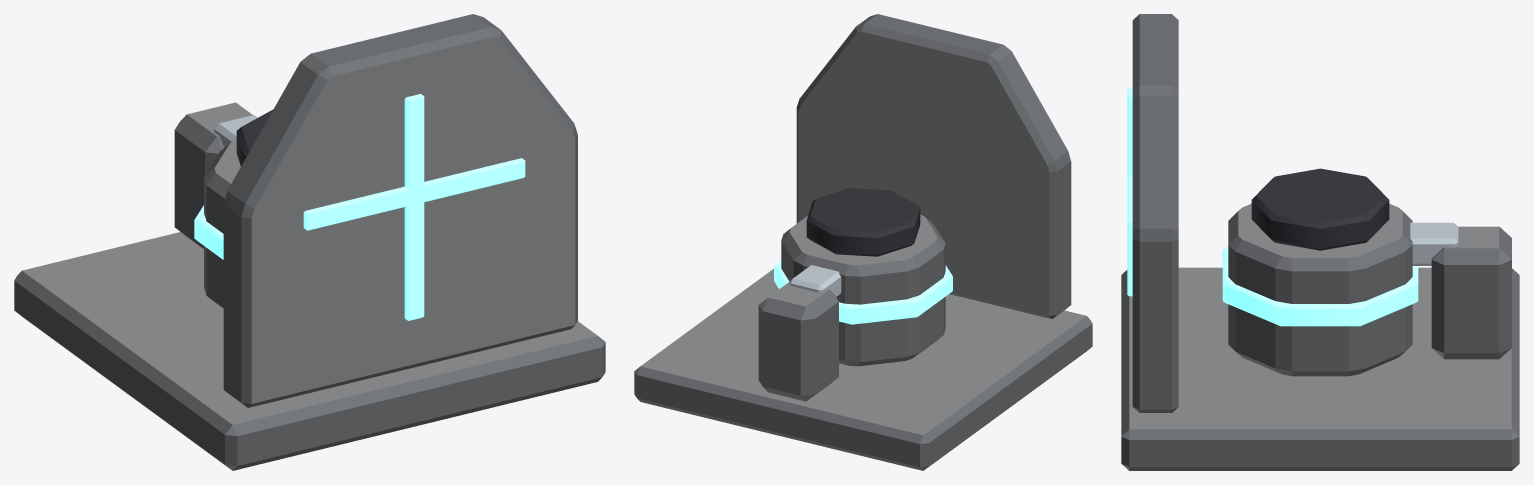
Rendered from R4X_DefensiveTurretDeployer_LOD1.glb.
3 renders of one model, left to right at view 1: azimuth 30°, elevation 25°; view 2: azimuth 150°, elevation 25°; view 3: azimuth 270°, elevation 25°, orthographic. The views are drawn at different scales.
Parts seen in each view (by area): view 1: R4X_DefensiveTurretDeployer_LOD1; view 2: R4X_DefensiveTurretDeployer_LOD1; view 3: R4X_DefensiveTurretDeployer_LOD1.
Part boxes in pixels (x1,y1,x2,y2): R4X_DefensiveTurretDeployer_LOD1: (14,14,605,470); R4X_DefensiveTurretDeployer_LOD1: (634,14,1092,470); R4X_DefensiveTurretDeployer_LOD1: (1121,14,1519,470).
Bounding box in the file's own units: 0.52 × 0.49 × 0.52.
